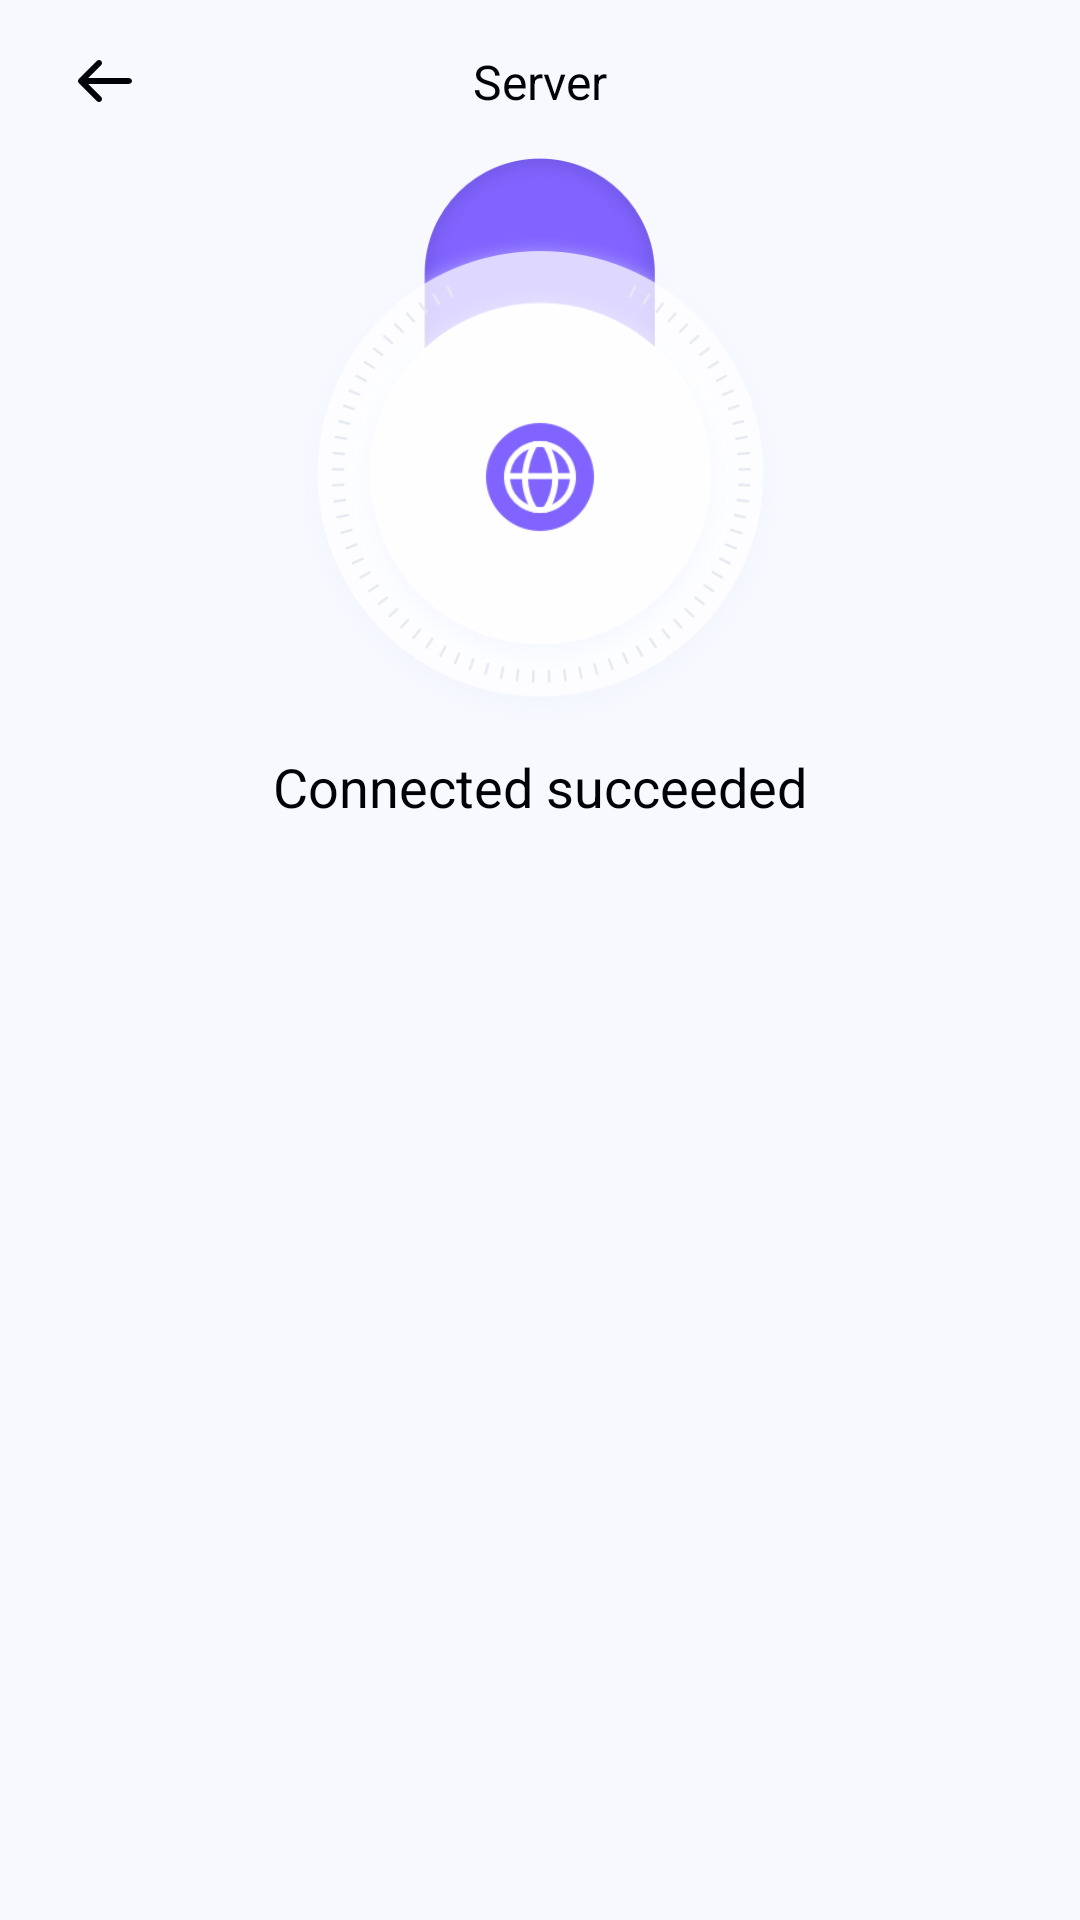

Point at icon controls on the screen. Image size 1080x1920, points as (x=x, y=y).
back: (x=105, y=81)
